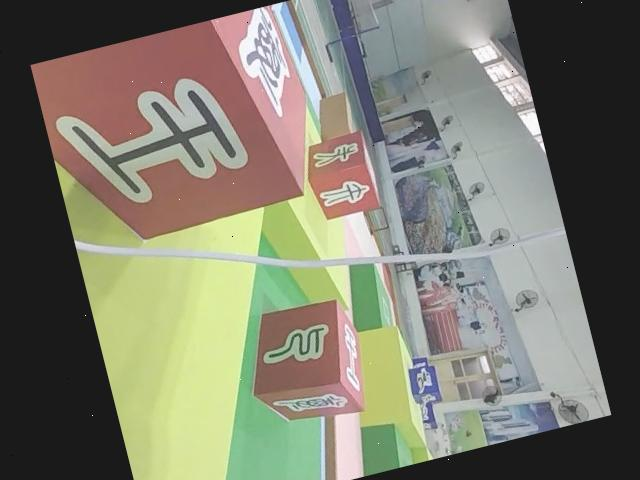R2 Fake: (29, 1, 334, 258), (234, 290, 379, 440), (297, 127, 386, 227)
